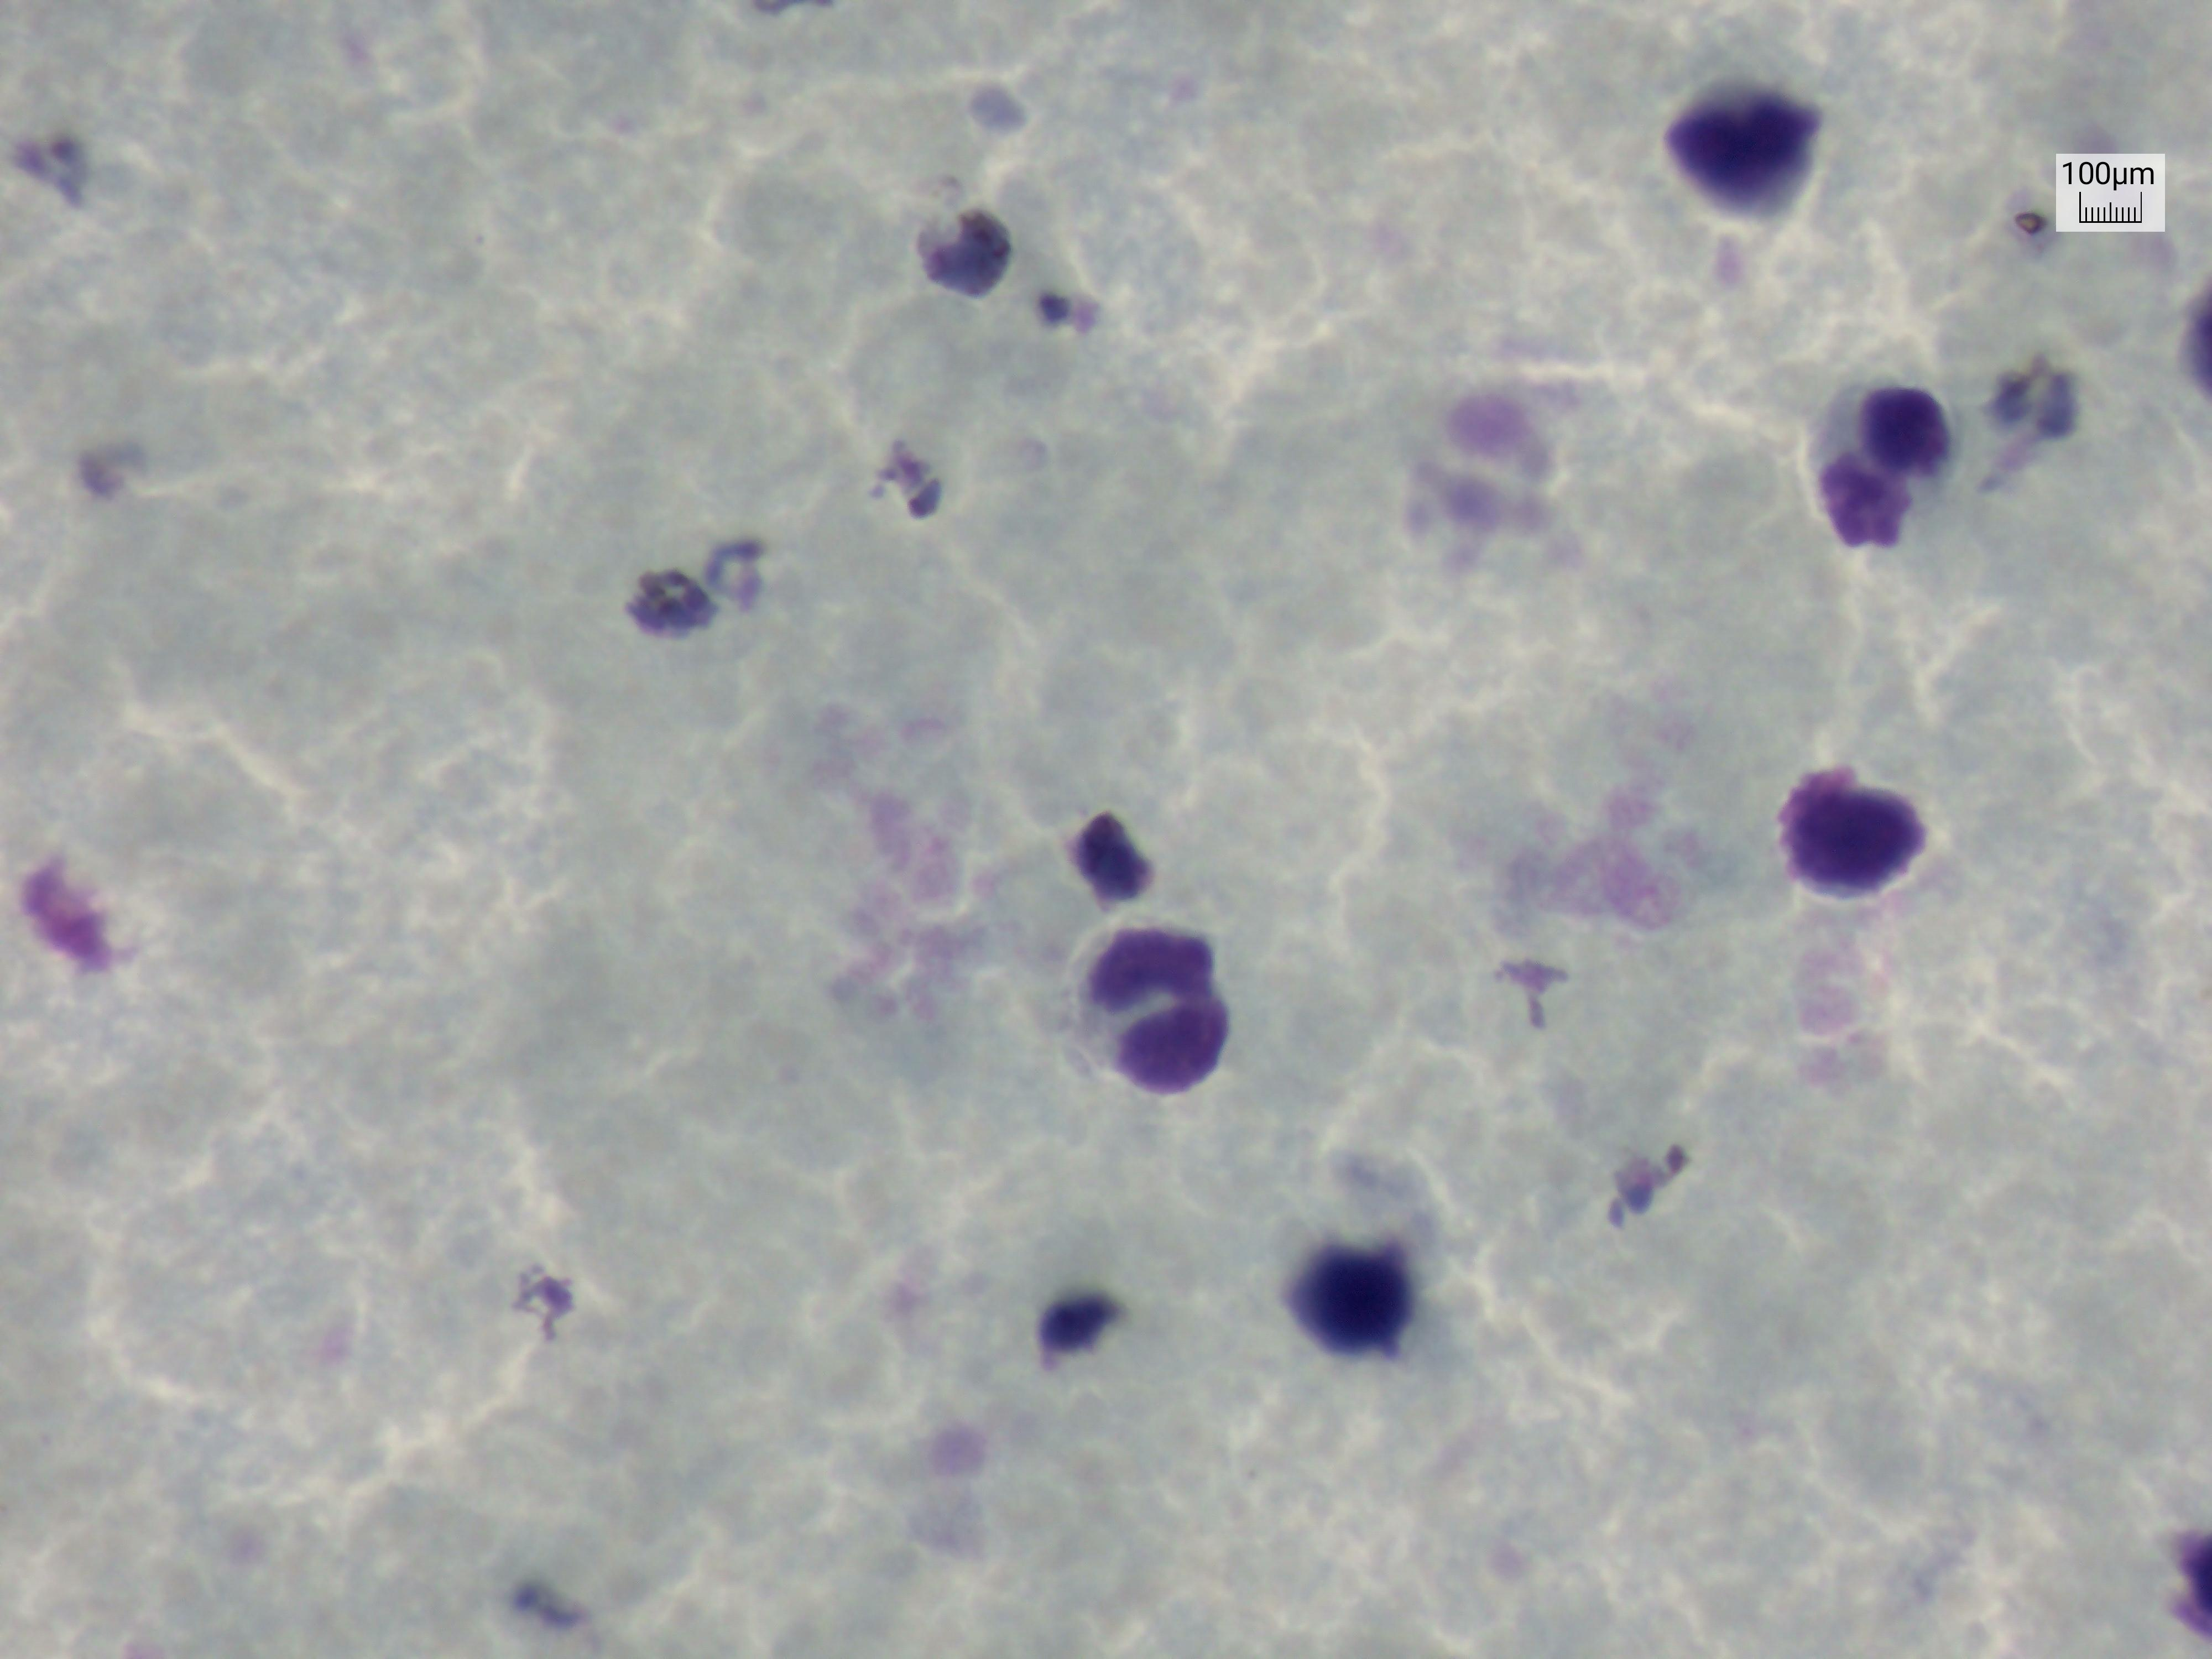p.vivax: (857, 396, 1033, 542), (606, 526, 796, 645), (1055, 791, 1197, 934), (907, 164, 1035, 303), (1604, 1124, 1717, 1272), (1980, 338, 2088, 493), (486, 1243, 587, 1349), (1991, 173, 2059, 291)
